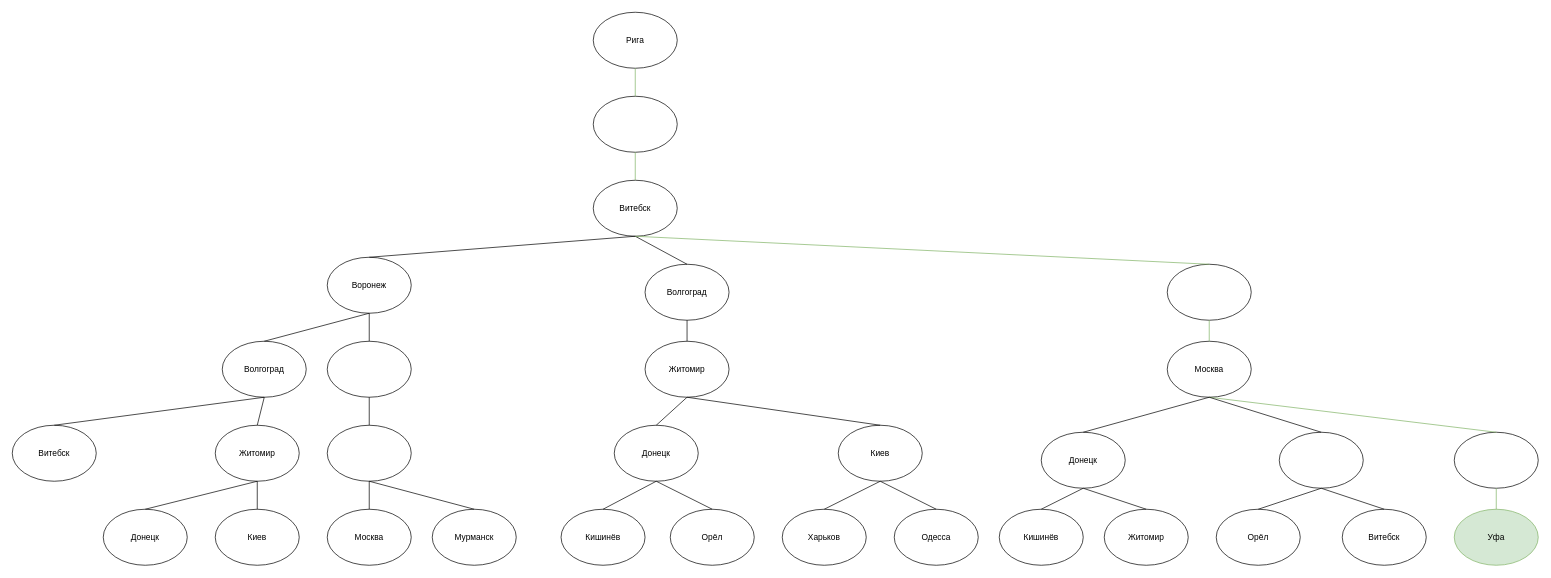
Some shapes in this 1551 by 578 pixel diagram are drawn without their labels. The shapes that lost their labels are listed below. From the top down, each one's centre as x and y in pixels, then its label:
pixel 635 124: С. Петербург
pixel 1209 292: Орел
pixel 369 369: Ярославль
pixel 369 453: Минск
pixel 1321 460: Ниж. Новг
pixel 1496 460: Казань
